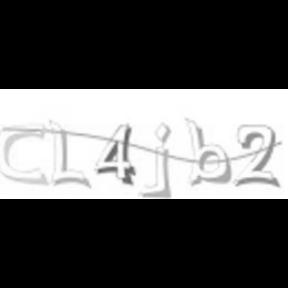2: (234, 122, 282, 190)
4: (96, 118, 136, 186)
C: (0, 120, 48, 186)
L: (46, 117, 94, 189)
b: (182, 113, 232, 189)
j: (139, 121, 173, 199)
